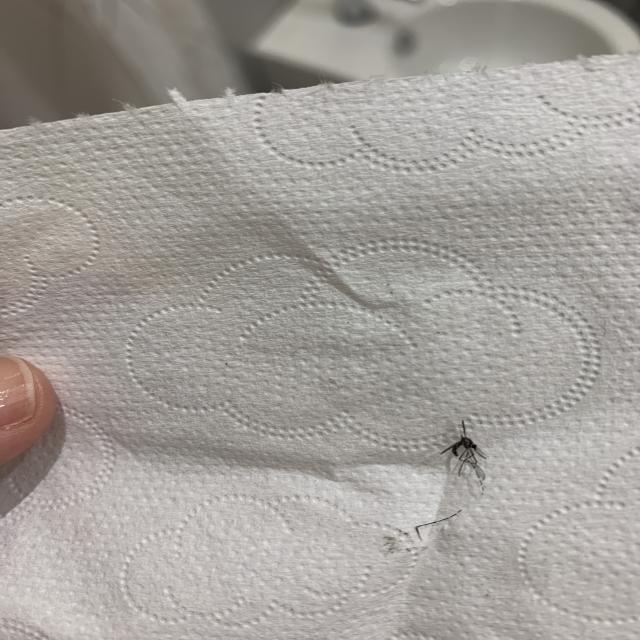albopictus: (426, 413, 495, 502)
